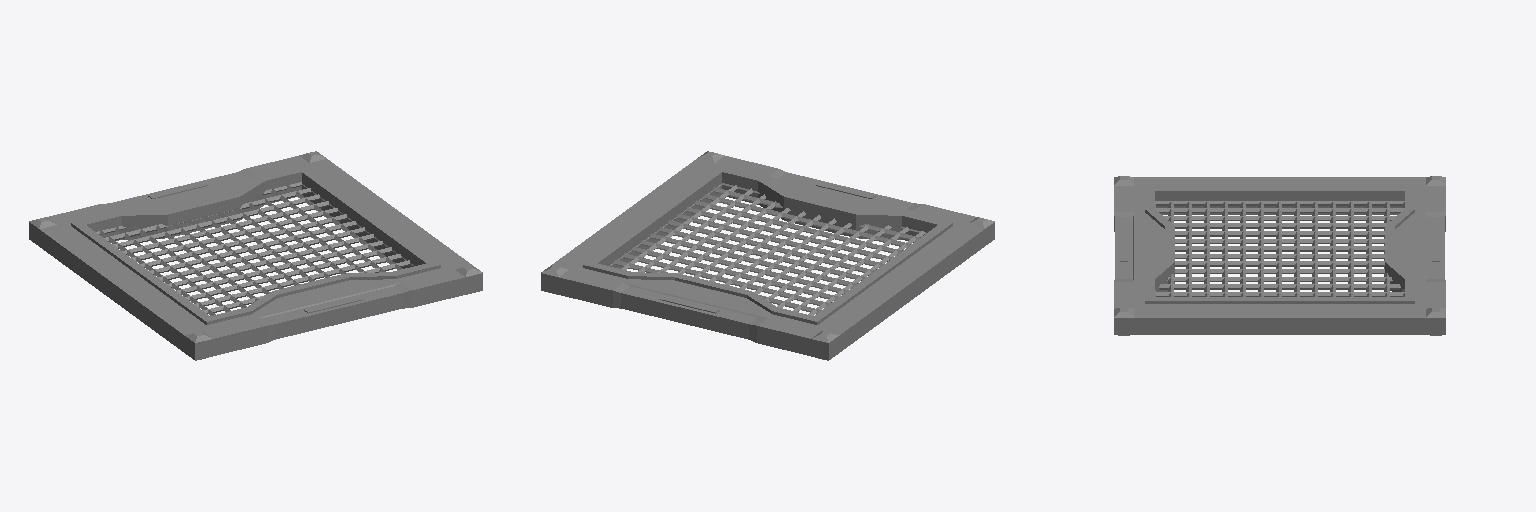
The model's file is dust.obj.
3 views of the same model, side by side, from view 1: azimuth 30°, elevation 25°; view 2: azimuth 150°, elevation 25°; view 3: azimuth 270°, elevation 25° (orthographic).
Size of the model in its own units: 4 by 0.3208 by 4.